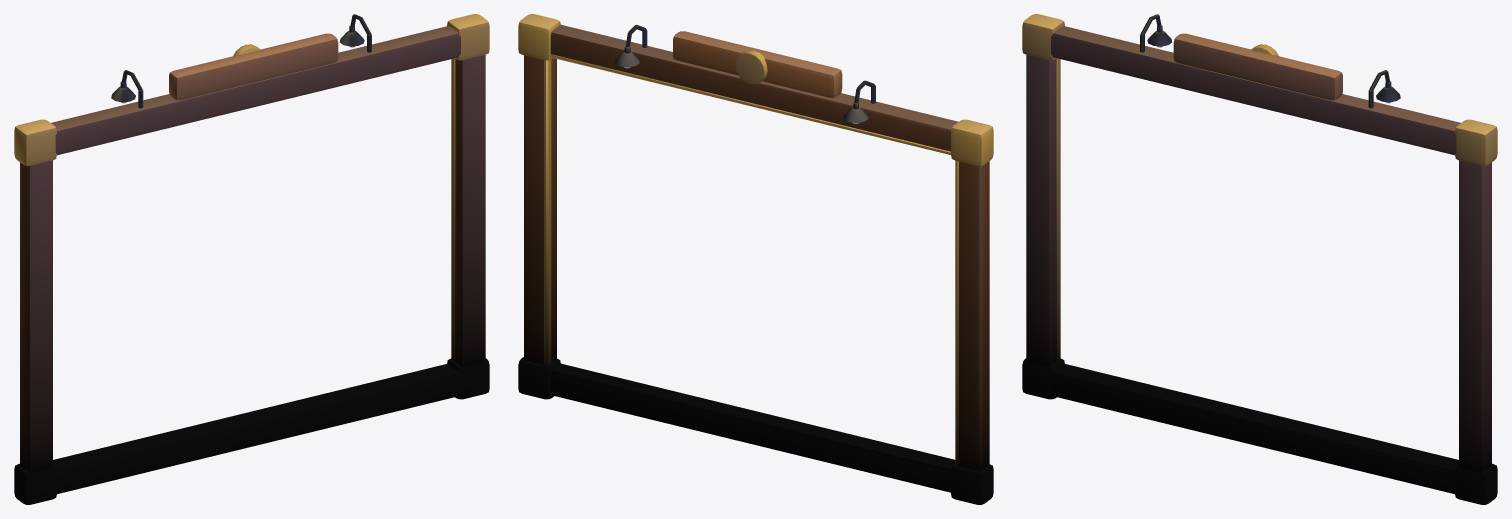
The model's file is LobbyBoardM.fbx.
The picture shows the model from 3 angles, left to right: view 1: azimuth 30°, elevation 25°; view 2: azimuth 150°, elevation 25°; view 3: azimuth 330°, elevation 25°; orthographic projection.
Parts seen in each view (by area): view 1: SM_Prop_LobbyBoardM_Frame; view 2: SM_Prop_LobbyBoardM_Frame; view 3: SM_Prop_LobbyBoardM_Frame.
Boxes of the visible parts, x1,y1,x2,y2 form: SM_Prop_LobbyBoardM_Frame: (14, 14, 489, 504); SM_Prop_LobbyBoardM_Frame: (518, 14, 993, 504); SM_Prop_LobbyBoardM_Frame: (1022, 14, 1497, 504).
Size of the model in its own units: 17.1 by 13.95 by 1.73.
